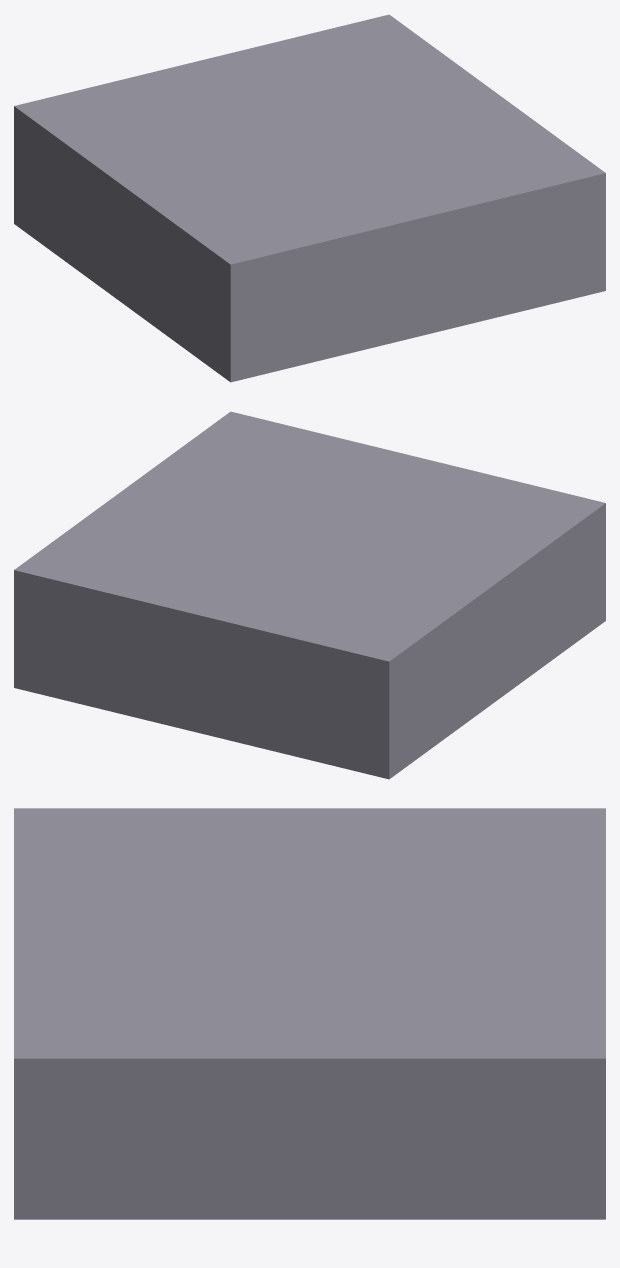
File: models.glb
The picture shows the model from 3 angles, top to bottom: view 1: azimuth 30°, elevation 25°; view 2: azimuth 150°, elevation 25°; view 3: azimuth 270°, elevation 25°; orthographic projection. The views are drawn at different scales.
Parts seen in each view (by area): view 1: ground_combined; view 2: ground_combined; view 3: ground_combined.
Boxes of the visible parts, x1,y1,x2,y2 form: ground_combined: [14, 14, 605, 382]; ground_combined: [14, 411, 605, 779]; ground_combined: [14, 808, 605, 1219].
Size of the model in its own units: 500 by 252 by 500.
Materials: 5 (5 with a texture image).
